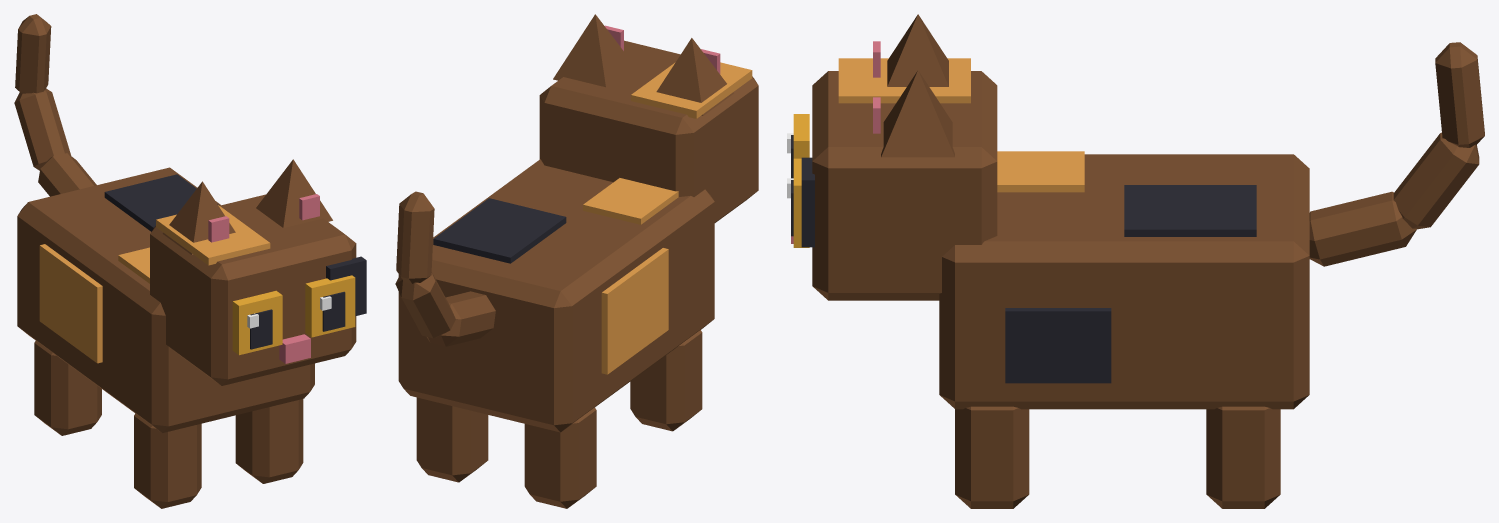
Rendered from CatCafe_Cat_Tortie.fbx.
3 renders of one model, left to right at view 1: azimuth 30°, elevation 25°; view 2: azimuth 150°, elevation 25°; view 3: azimuth 270°, elevation 25°, orthographic. The views are drawn at different scales.
Visible parts, largest first — view 1: CatCafe_Cat_Tortie_Body, CatCafe_Cat_Tortie_Head, CatCafe_Cat_Tortie_Tail; view 2: CatCafe_Cat_Tortie_Body, CatCafe_Cat_Tortie_Head, CatCafe_Cat_Tortie_Tail; view 3: CatCafe_Cat_Tortie_Body, CatCafe_Cat_Tortie_Head, CatCafe_Cat_Tortie_Tail.
Boxes of the visible parts, x1,y1,x2,y2 form: CatCafe_Cat_Tortie_Body: (17, 167, 314, 508); CatCafe_Cat_Tortie_Head: (150, 159, 366, 385); CatCafe_Cat_Tortie_Tail: (14, 14, 96, 196); CatCafe_Cat_Tortie_Body: (398, 159, 714, 508); CatCafe_Cat_Tortie_Head: (539, 14, 758, 222); CatCafe_Cat_Tortie_Tail: (395, 191, 495, 346); CatCafe_Cat_Tortie_Body: (939, 151, 1309, 508); CatCafe_Cat_Tortie_Head: (787, 14, 997, 300); CatCafe_Cat_Tortie_Tail: (1309, 42, 1484, 266).
Size of the model in its own units: 0.96 by 1.78 by 2.64.
Materials: 1 (1 with a texture image).
